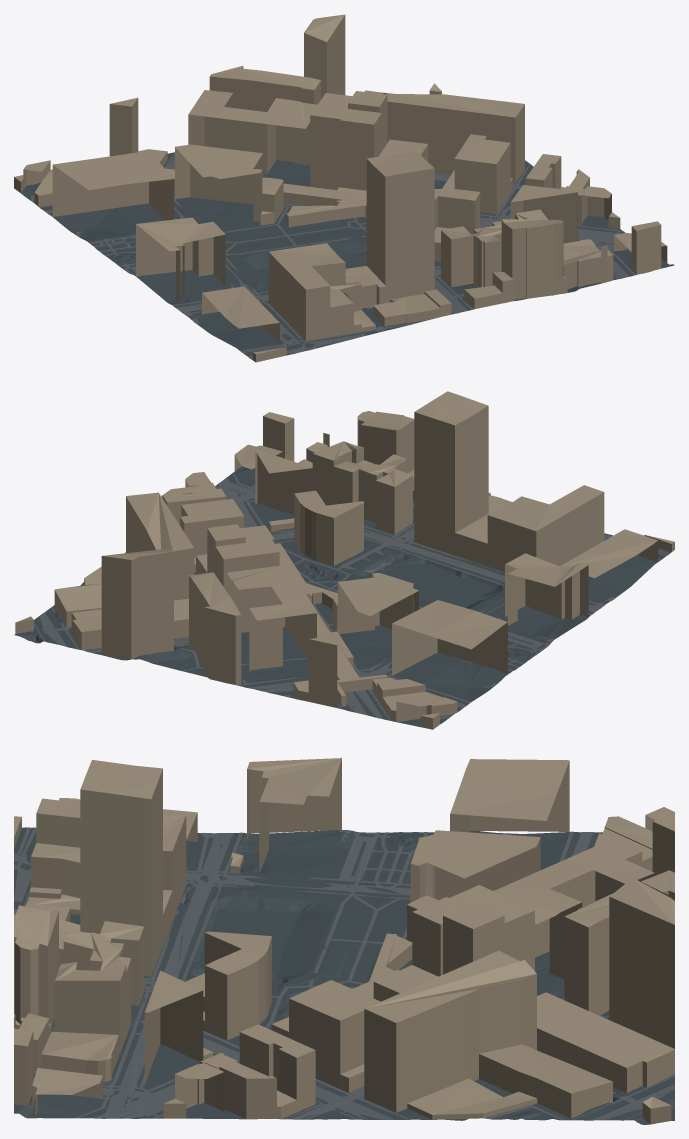
File: epsg26910-1436-10889.lod0.glb
The picture shows the model from 3 angles, top to bottom: view 1: azimuth 30°, elevation 25°; view 2: azimuth 150°, elevation 25°; view 3: azimuth 270°, elevation 25°; orthographic projection. The views are drawn at different scales.
Parts seen in each view (by area): view 1: epsg26910-1436-10889-lod0; view 2: epsg26910-1436-10889-lod0; view 3: epsg26910-1436-10889-lod0.
Boxes of the visible parts, x1,y1,x2,y2 form: epsg26910-1436-10889-lod0: (14, 14, 674, 362); epsg26910-1436-10889-lod0: (14, 391, 674, 729); epsg26910-1436-10889-lod0: (14, 758, 674, 1124).
Bounding box in the file's own units: 384 × 125 × 384.
